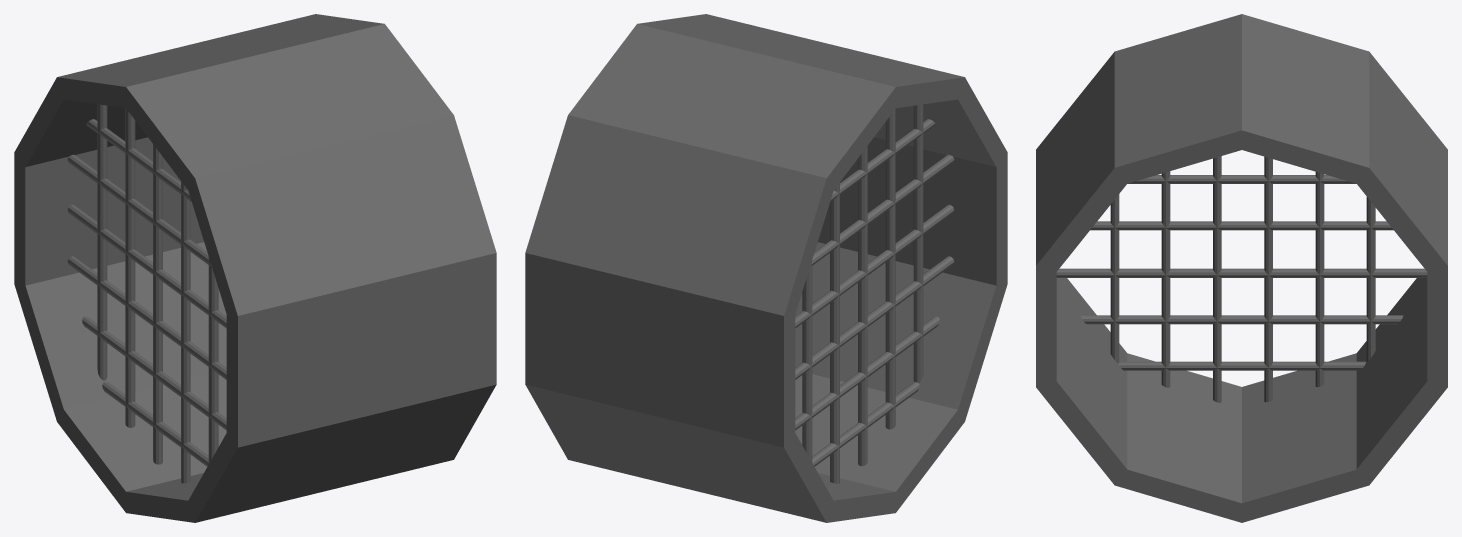
The model's file is obj_sewer_pipe_2.fbx.
The picture shows the model from 3 angles, left to right: view 1: azimuth 30°, elevation 25°; view 2: azimuth 150°, elevation 25°; view 3: azimuth 270°, elevation 25°; orthographic projection. The views are drawn at different scales.
Parts seen in each view (by area): view 1: obj_sewer_pipe_2; view 2: obj_sewer_pipe_2; view 3: obj_sewer_pipe_2.
Boxes of the visible parts, x1,y1,x2,y2 form: obj_sewer_pipe_2: (14, 14, 496, 522); obj_sewer_pipe_2: (525, 14, 1007, 522); obj_sewer_pipe_2: (1036, 14, 1447, 522).
Bounding box in the file's own units: 2.12 × 3.33 × 3.17.
1 material, 1 textured.
